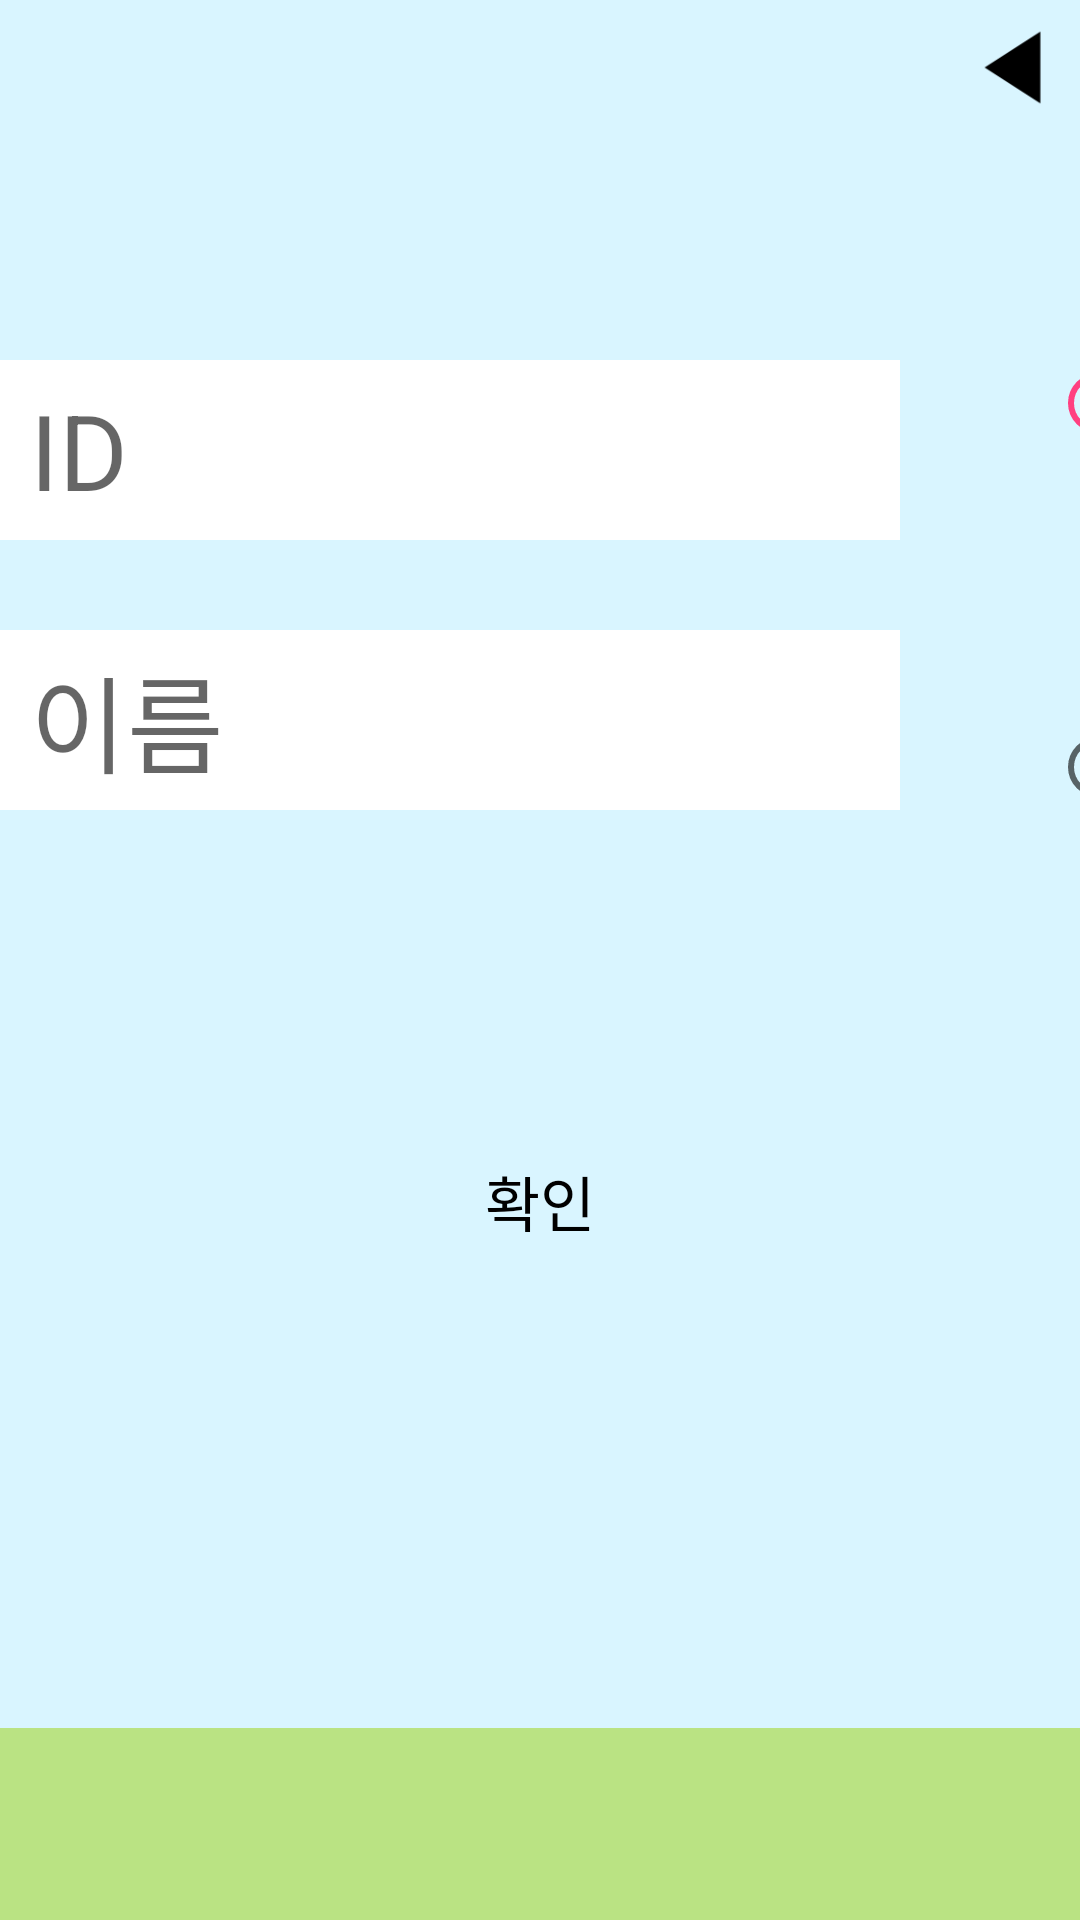

Named icons in this screenshot (1080px x 1920px) and their centers, (x,y):
back: (1012,67)
